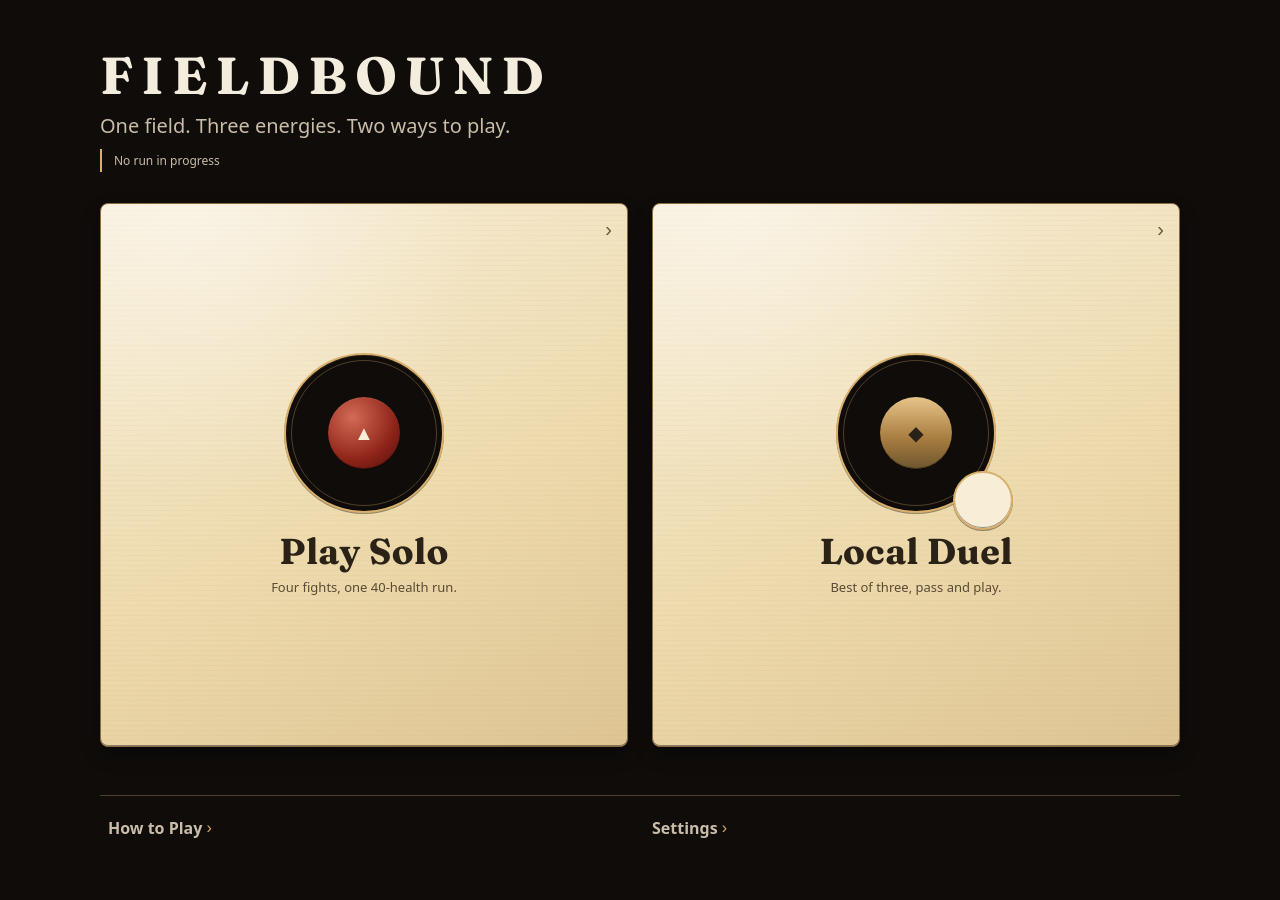
Scenario: App navigation › opens How to Play and returns to the menu with Back
The width and height of the screenshot is (1280, 900).
Click the button "How to Play".
click(155, 828)  # box [100,804,636,852]
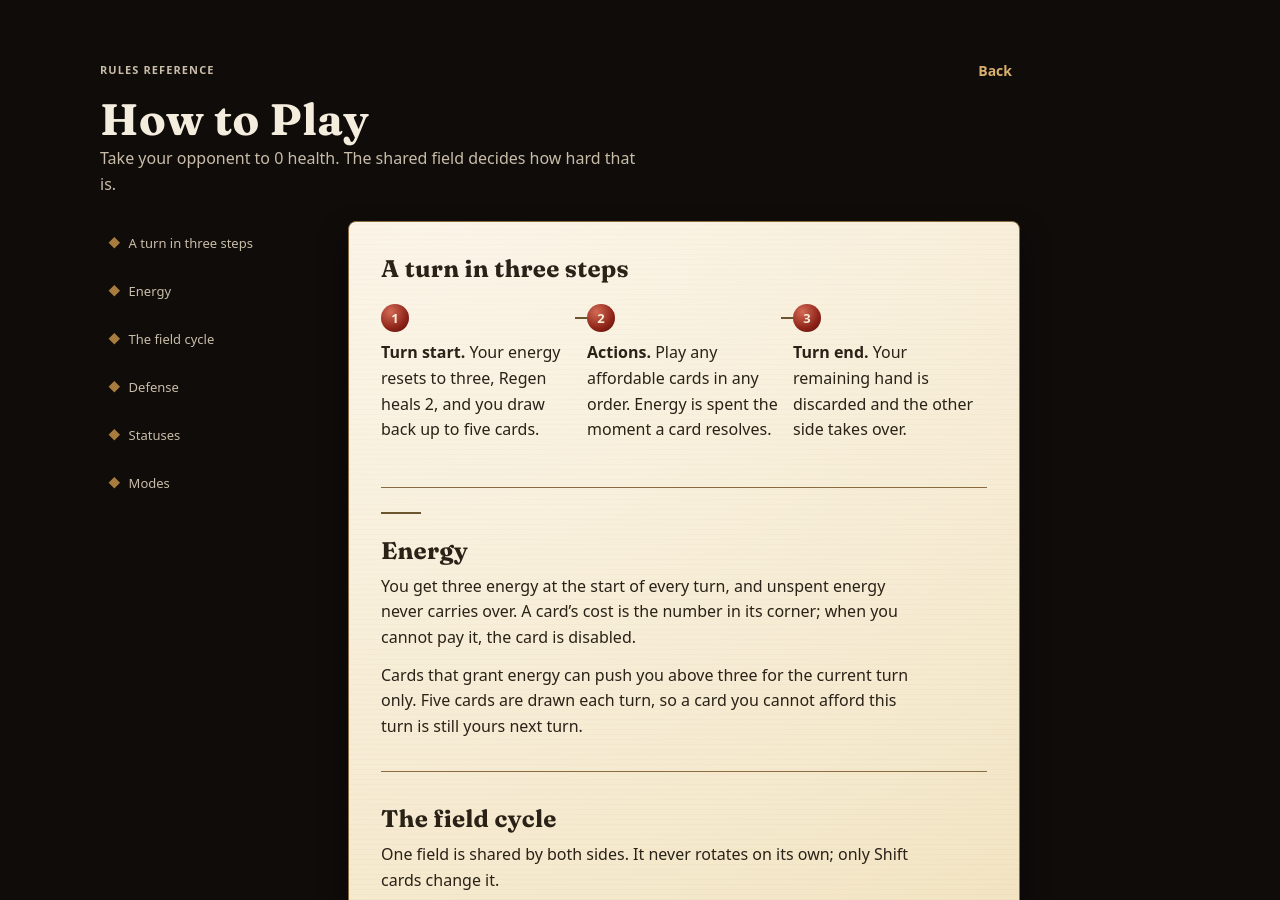
Check: the heading "How to Play" is shown, box [100,96,369,142]
Click the button "Back".
click(995, 70)  # box [970,48,1020,92]
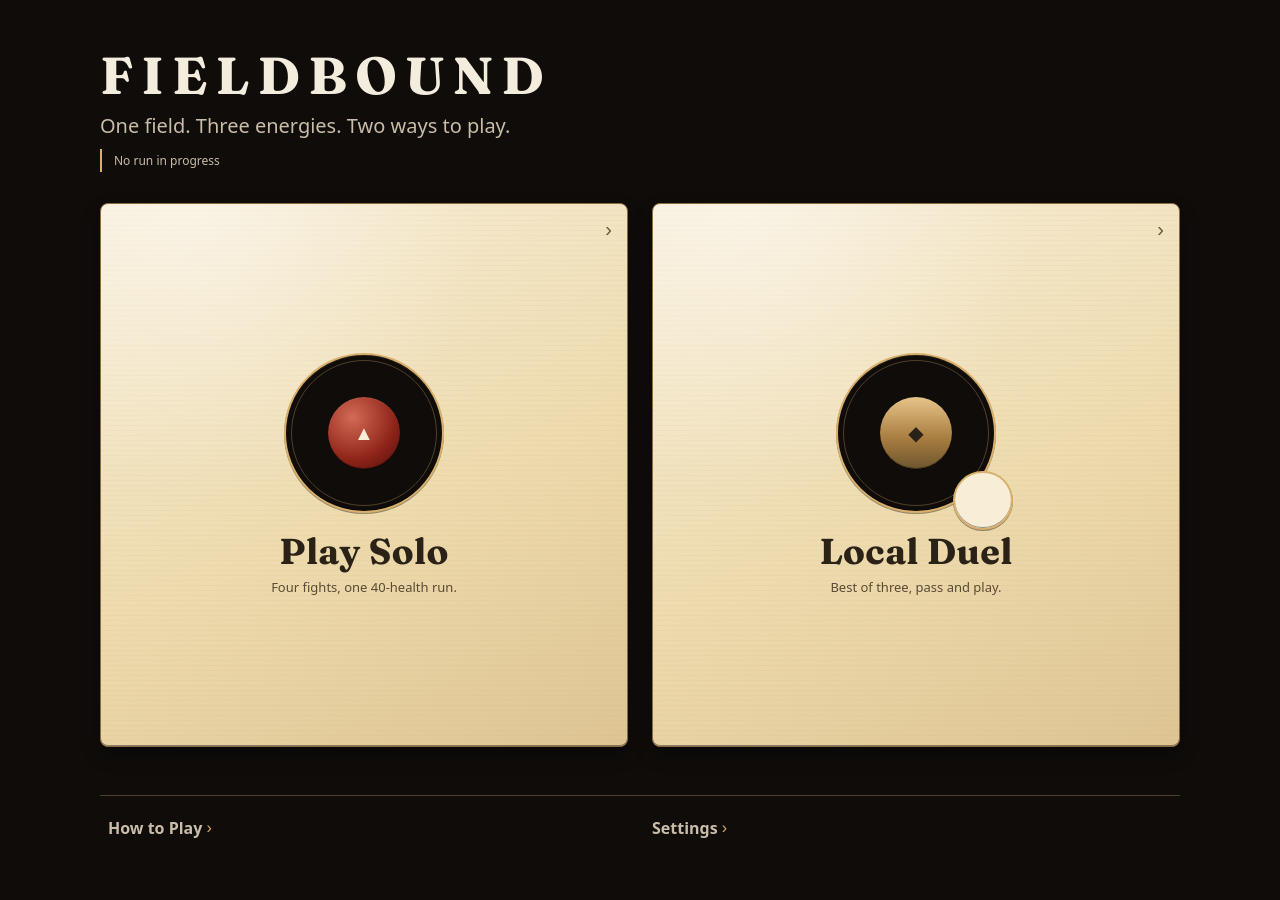
Check: the heading "Fieldbound" is shown, box [100,43,552,107]
Check: the button named "Play Solo" in the row of "Play Solo" is shown, box [100,203,628,747]
